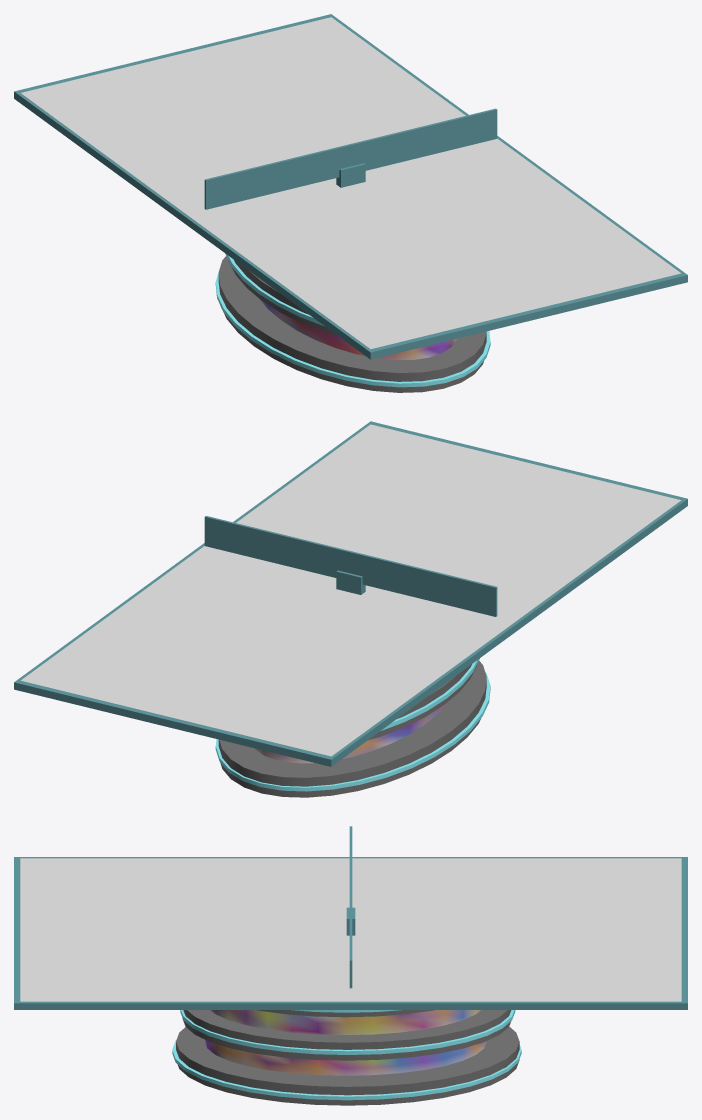
File: table.glb
3 renders of one model, top to bottom at view 1: azimuth 30°, elevation 25°; view 2: azimuth 150°, elevation 25°; view 3: azimuth 270°, elevation 25°, orthographic. The views are drawn at different scales.
Visible parts, largest first — view 1: Cube, Cube.001, Object_19, Cube.003, Object_25, Object_3, Object_21, Object_23; view 2: Cube, Cube.001, Object_19, Cube.003, Object_25, Object_3, Object_21, Object_23; view 3: Cube, Object_19, Cube.001, Object_3, Object_21, Object_25, Object_23, Object_29, Cube.003.
Boxes of the visible parts, x1,y1,x2,y2 form: Cube: [21, 17, 680, 349]; Cube.001: [14, 14, 687, 359]; Object_19: [218, 256, 486, 392]; Cube.003: [204, 108, 497, 209]; Object_25: [215, 273, 490, 387]; Object_3: [259, 298, 456, 360]; Object_21: [228, 260, 337, 335]; Object_23: [225, 253, 324, 326]; Cube: [21, 424, 681, 756]; Cube.001: [14, 421, 687, 766]; Object_19: [218, 660, 486, 797]; Cube.003: [204, 516, 497, 616]; Object_25: [215, 672, 490, 791]; Object_3: [255, 701, 448, 763]; Object_21: [368, 664, 477, 740]; Object_23: [381, 658, 479, 730]; Cube: [20, 858, 681, 1001]; Object_19: [176, 1026, 519, 1105]; Cube.001: [14, 857, 687, 1009]; Object_3: [204, 1010, 486, 1075]; Object_21: [182, 1010, 511, 1060]; Object_25: [172, 1040, 521, 1100]; Object_23: [180, 1010, 515, 1054]; Object_29: [257, 1010, 434, 1017]; Cube.003: [349, 826, 352, 988].
Size of the model in its own units: 2.18 by 1.16 by 4.24.
